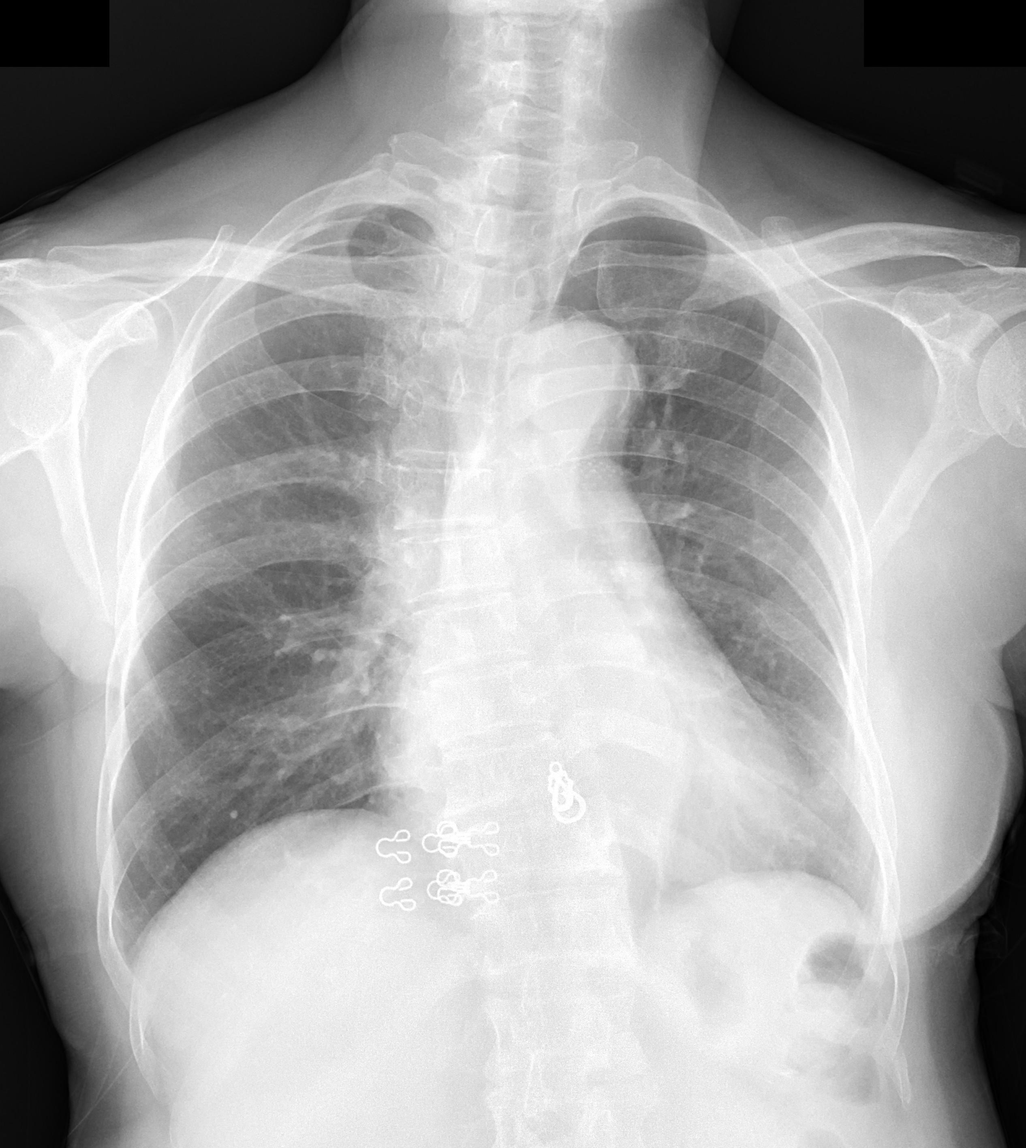Aortic enlargement: (498, 317, 648, 506)
Cardiomegaly: (367, 716, 808, 875)
